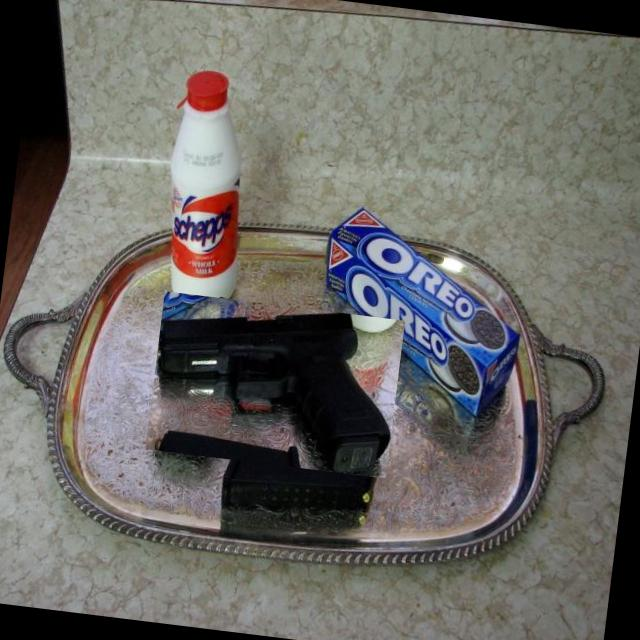Gun: (158, 314, 390, 472)
